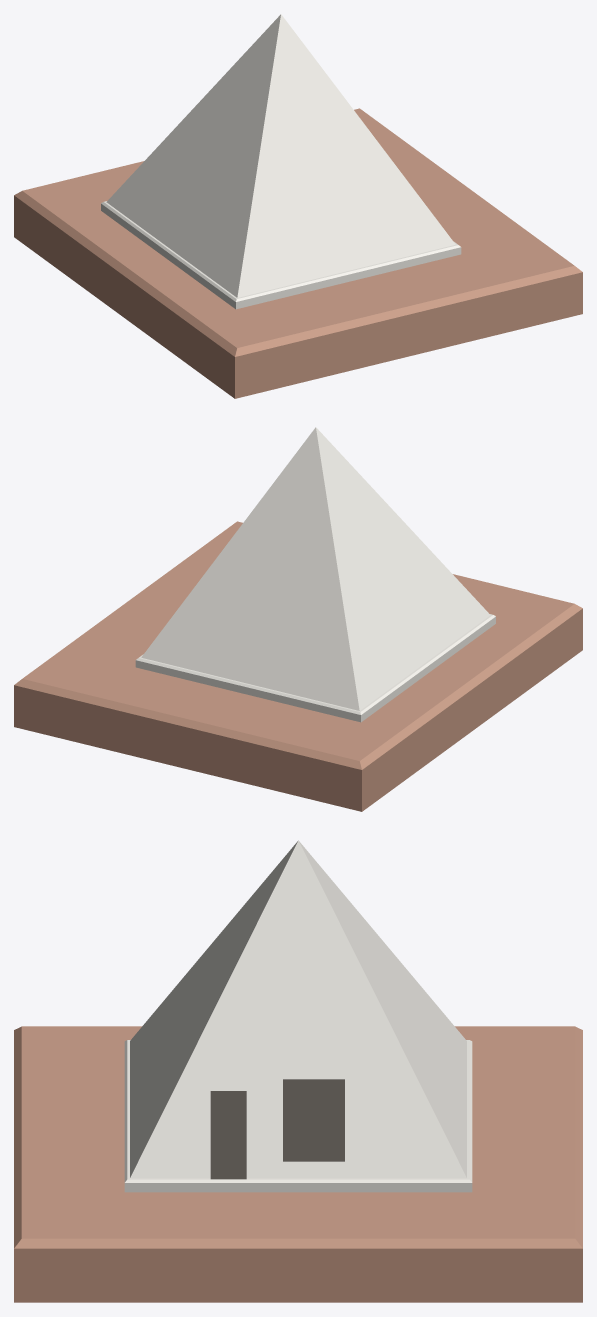
Rendered from phx-hunts-tomb.glb.
The picture shows the model from 3 angles, top to bottom: view 1: azimuth 30°, elevation 25°; view 2: azimuth 150°, elevation 25°; view 3: azimuth 270°, elevation 25°; orthographic projection. The views are drawn at different scales.
Parts seen in each view (by area): view 1: Hunt's Tomb; view 2: Hunt's Tomb; view 3: Hunt's Tomb.
Part boxes in pixels (left/top/right/bottom): Hunt's Tomb: left=14, top=14, right=582, bottom=398; Hunt's Tomb: left=14, top=427, right=582, bottom=811; Hunt's Tomb: left=14, top=840, right=582, bottom=1302.
Size of the model in its own units: 10 by 7.3 by 11.
